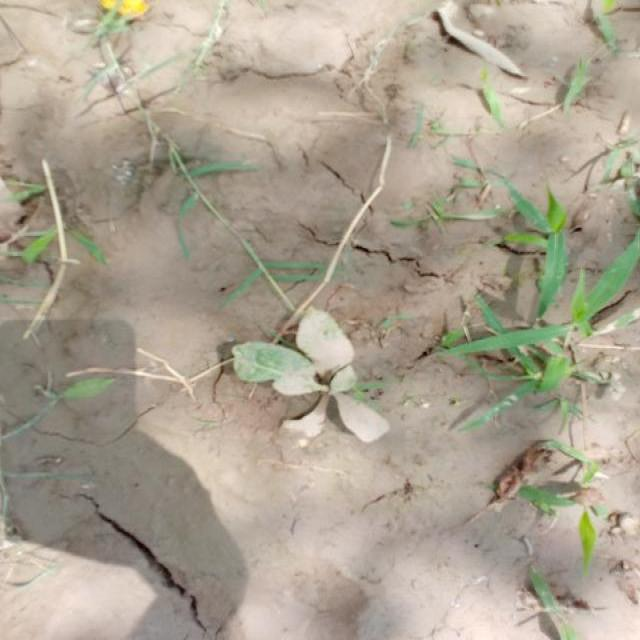crop: (228, 317, 391, 452)
